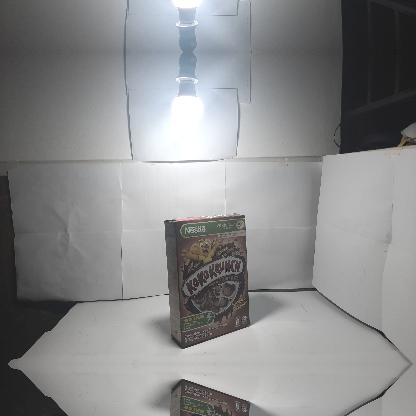Koko-Krunch: (164, 213, 250, 349), (164, 379, 251, 415)
